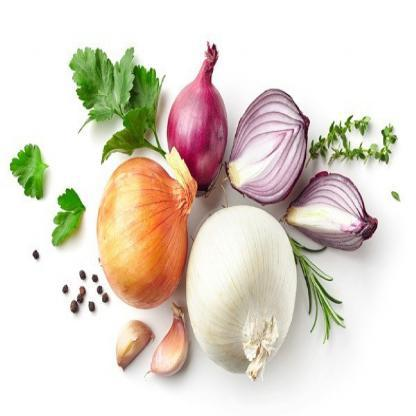onion: (186, 208, 290, 373), (85, 160, 190, 310), (164, 59, 228, 181), (242, 98, 305, 198)
